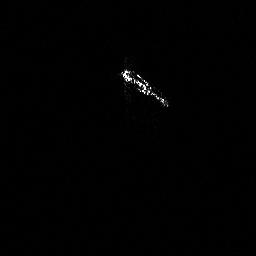ship: (120, 68, 170, 109)
